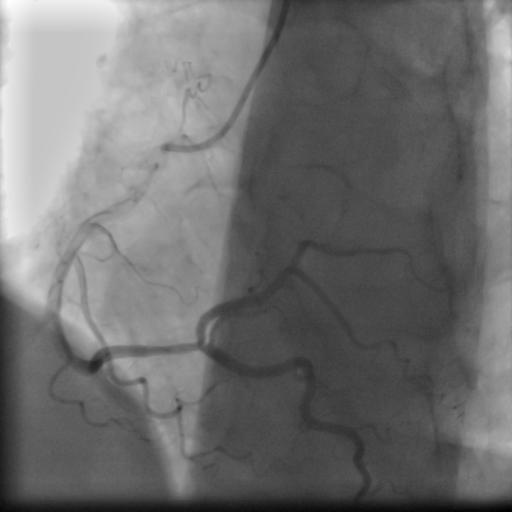Stenosis: (149, 339, 195, 358)
